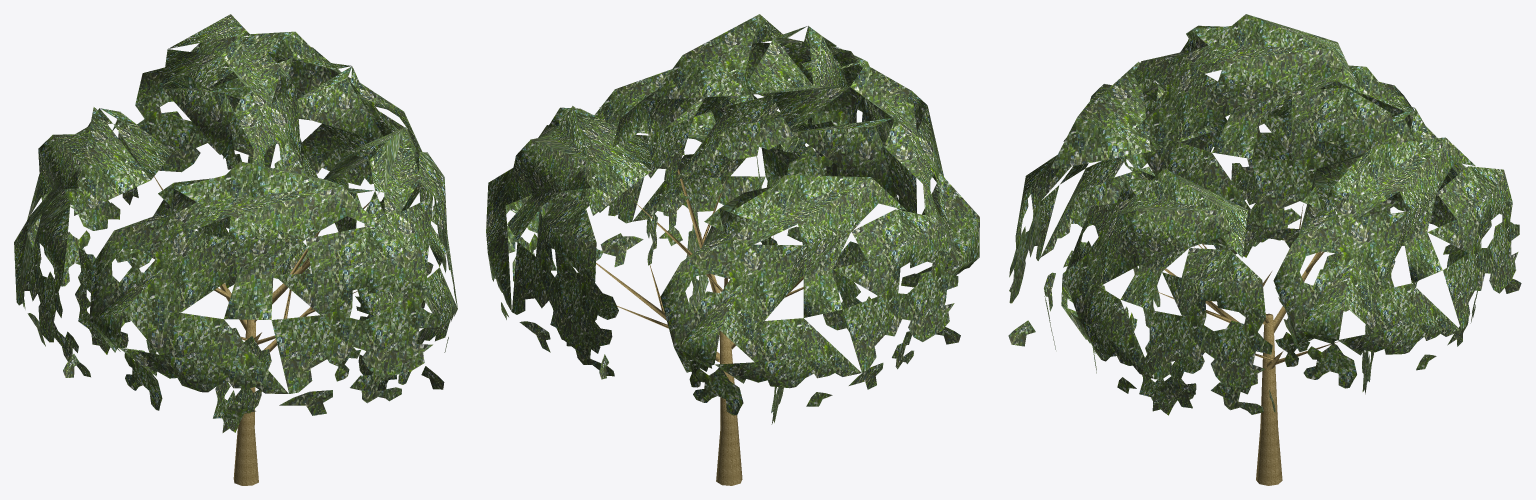
File: OliveTree1.dae
3 renders of one model, left to right at view 1: azimuth 30°, elevation 25°; view 2: azimuth 150°, elevation 25°; view 3: azimuth 270°, elevation 25°, orthographic.
Parts seen in each view (by area): view 1: Canopy-Third-Face-02_1_4, Canopy-Third-Face-02_1_3, Canopy-Third-Face-02_1_5, Canopy-Third-Face-02_1_1, Canopy-Third-Face-02_1_2, Trunk-SM4-01_1, Foliage-Face-01_1_4, Foliage-Face-01_1_3, Foliage-Face-01_1_1; view 2: Canopy-Third-Face-02_1_3, Canopy-Third-Face-02_1_1, Canopy-Third-Face-02_1_5, Canopy-Third-Face-02_1_4, Canopy-Third-Face-02_1_2, Trunk-SM4-01_1, Foliage-Face-01_1_5, Foliage-Face-01_1_4, Foliage-Face-01_1_2; view 3: Canopy-Third-Face-02_1_5, Canopy-Third-Face-02_1_1, Canopy-Third-Face-02_1_2, Canopy-Third-Face-02_1_4, Canopy-Third-Face-02_1_3, Trunk-SM4-01_1, Foliage-Face-01_1_2, Foliage-Face-01_1_1.
Part boxes in pixels (x1,y1,x2,y2): Canopy-Third-Face-02_1_4: (89,161,444,420); Canopy-Third-Face-02_1_3: (14,107,172,377); Canopy-Third-Face-02_1_5: (122,31,422,212); Canopy-Third-Face-02_1_1: (162,14,317,274); Canopy-Third-Face-02_1_2: (324,127,457,384); Trunk-SM4-01_1: (233,319,258,485); Foliage-Face-01_1_4: (213,328,271,432); Foliage-Face-01_1_3: (75,247,130,354); Foliage-Face-01_1_1: (197,216,237,288); Canopy-Third-Face-02_1_3: (660,175,960,415); Canopy-Third-Face-02_1_1: (600,14,864,265); Canopy-Third-Face-02_1_5: (486,106,651,379); Canopy-Third-Face-02_1_4: (773,46,979,305); Canopy-Third-Face-02_1_2: (551,69,806,270); Trunk-SM4-01_1: (716,331,742,485); Foliage-Face-01_1_5: (549,250,618,346); Foliage-Face-01_1_4: (823,241,870,331); Foliage-Face-01_1_2: (686,202,708,306); Canopy-Third-Face-02_1_5: (1273,137,1521,388); Canopy-Third-Face-02_1_1: (1121,14,1399,247); Canopy-Third-Face-02_1_2: (1061,168,1275,414); Canopy-Third-Face-02_1_4: (1008,61,1231,349); Canopy-Third-Face-02_1_3: (1243,65,1491,286); Trunk-SM4-01_1: (1256,313,1282,485); Foliage-Face-01_1_2: (1139,326,1204,415); Foliage-Face-01_1_1: (1231,163,1275,257).
Size of the model in its own units: 110 by 119 by 117.
2 materials, 2 textured.
